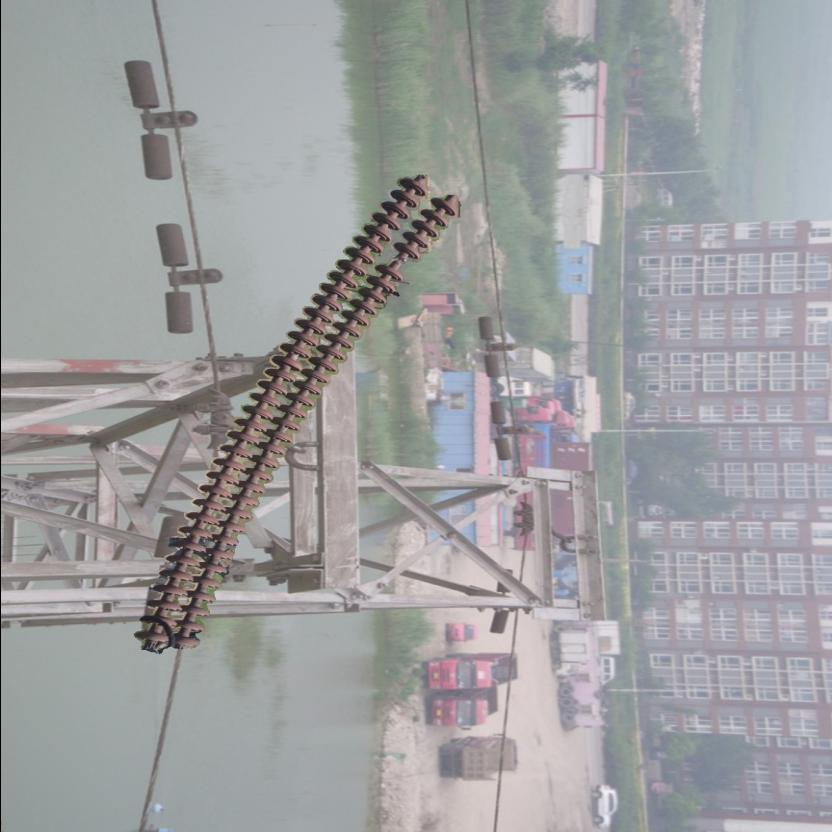defect: (373, 240, 422, 284)
